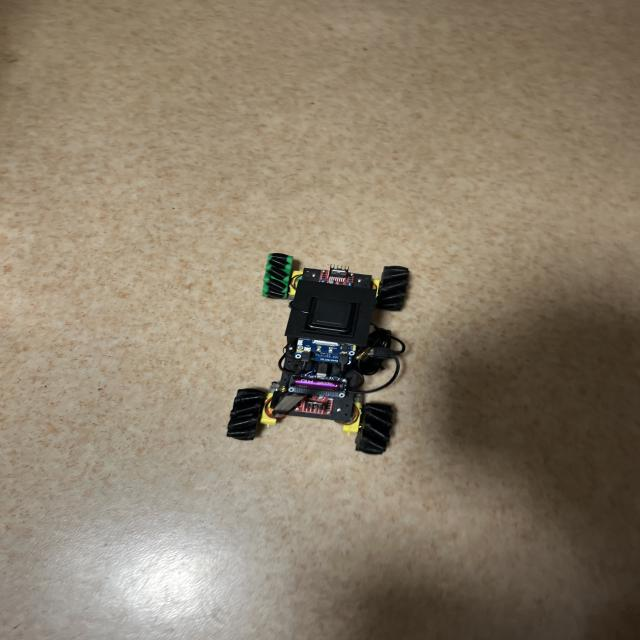robot: (227, 253, 409, 454)
